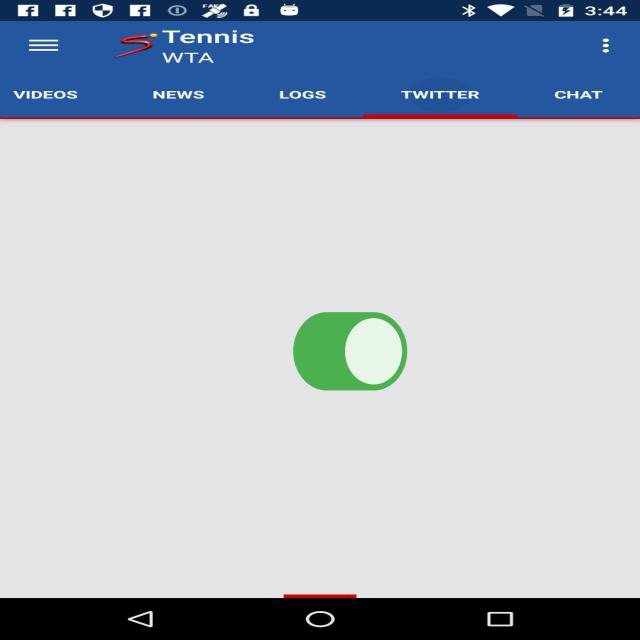social proof: (288, 282, 412, 427)
